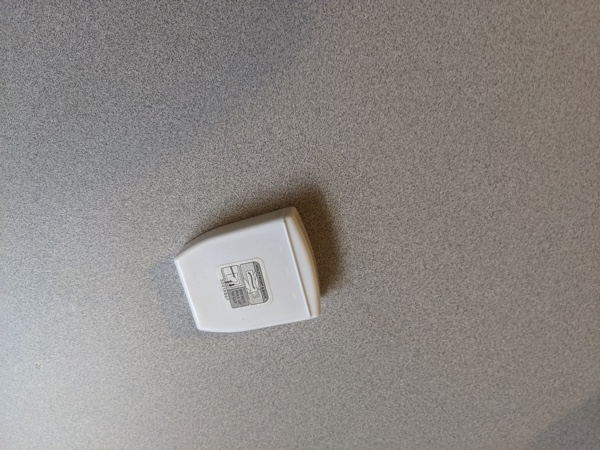plastic: (154, 196, 339, 353)
